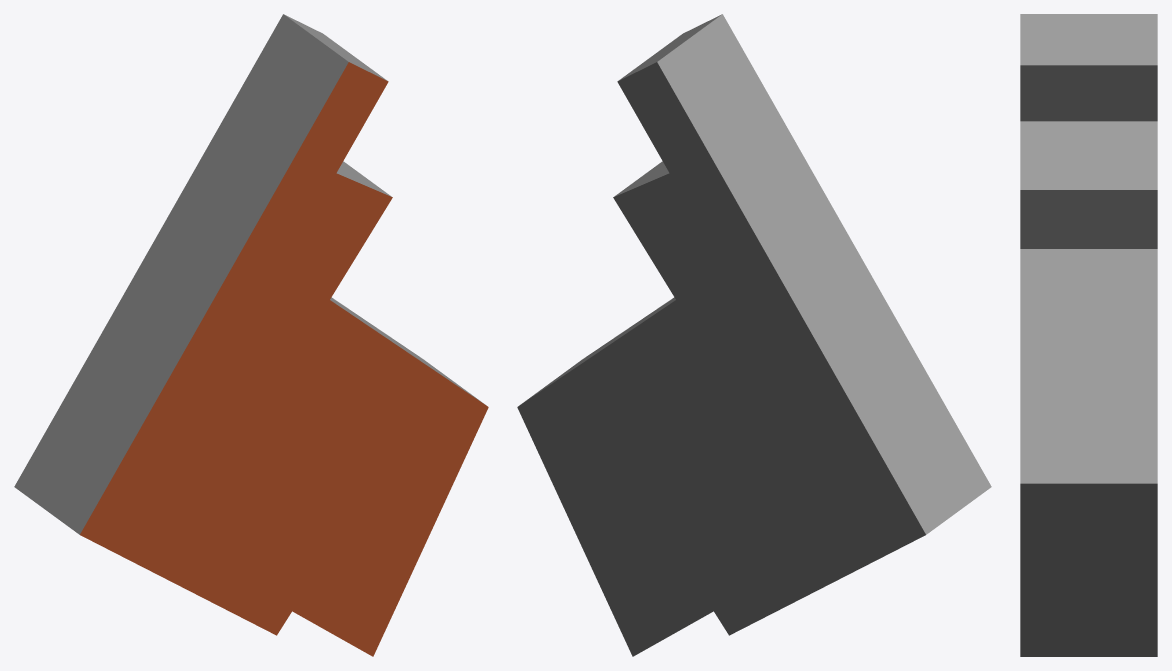
The model's file is construction_5878_assumed_A_Casa_h6m.obj.
3 renders of one model, left to right at view 1: azimuth 30°, elevation 25°; view 2: azimuth 150°, elevation 25°; view 3: azimuth 270°, elevation 25°, orthographic. The views are drawn at different scales.
Parts seen in each view (by area): view 1: construction_5878_assumed_A_Casa; view 2: construction_5878_assumed_A_Casa; view 3: construction_5878_assumed_A_Casa.
Boxes of the visible parts, bbox=[...] form: construction_5878_assumed_A_Casa: bbox=[14, 14, 488, 656]; construction_5878_assumed_A_Casa: bbox=[517, 14, 991, 656]; construction_5878_assumed_A_Casa: bbox=[1020, 14, 1157, 656].
Size of the model in its own units: 21.6 by 30.33 by 6.
